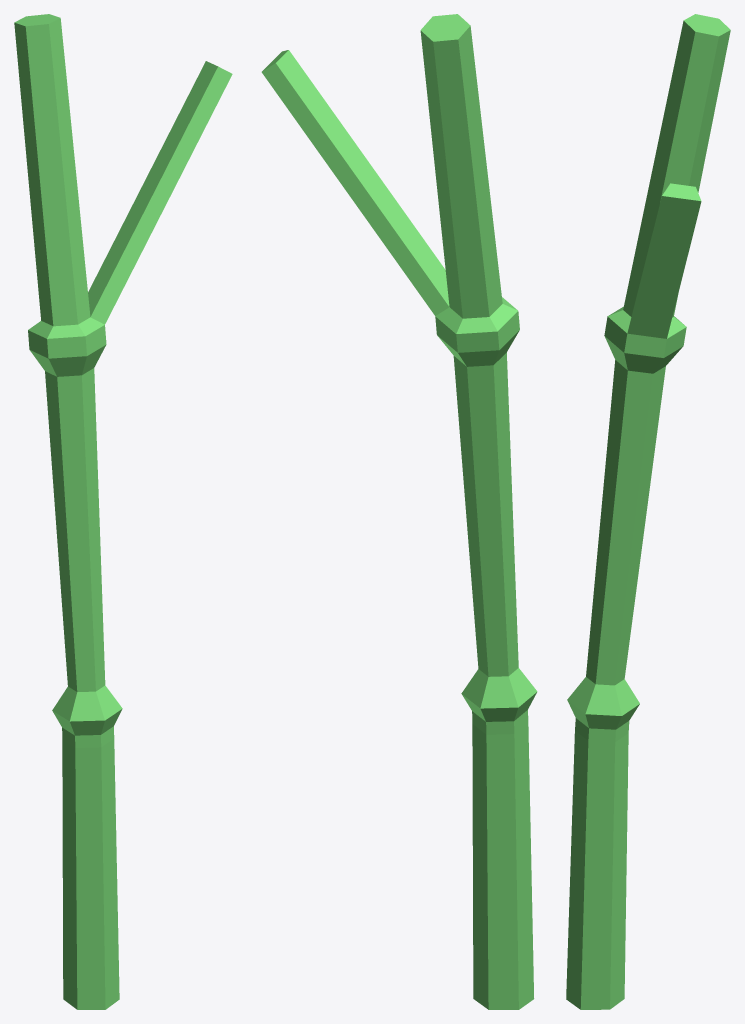
The model's file is bamboo2.fbx.
3 views of the same model, side by side, from view 1: azimuth 30°, elevation 25°; view 2: azimuth 150°, elevation 25°; view 3: azimuth 270°, elevation 25° (orthographic). The views are drawn at different scales.
Visible parts, largest first — view 1: Cube; view 2: Cube; view 3: Cube.
Boxes of the visible parts, bbox=[...] form: Cube: bbox=[14, 14, 232, 1009]; Cube: bbox=[261, 14, 537, 1009]; Cube: bbox=[566, 14, 730, 1009].
Bounding box in the file's own units: 566 × 2526 × 385.
